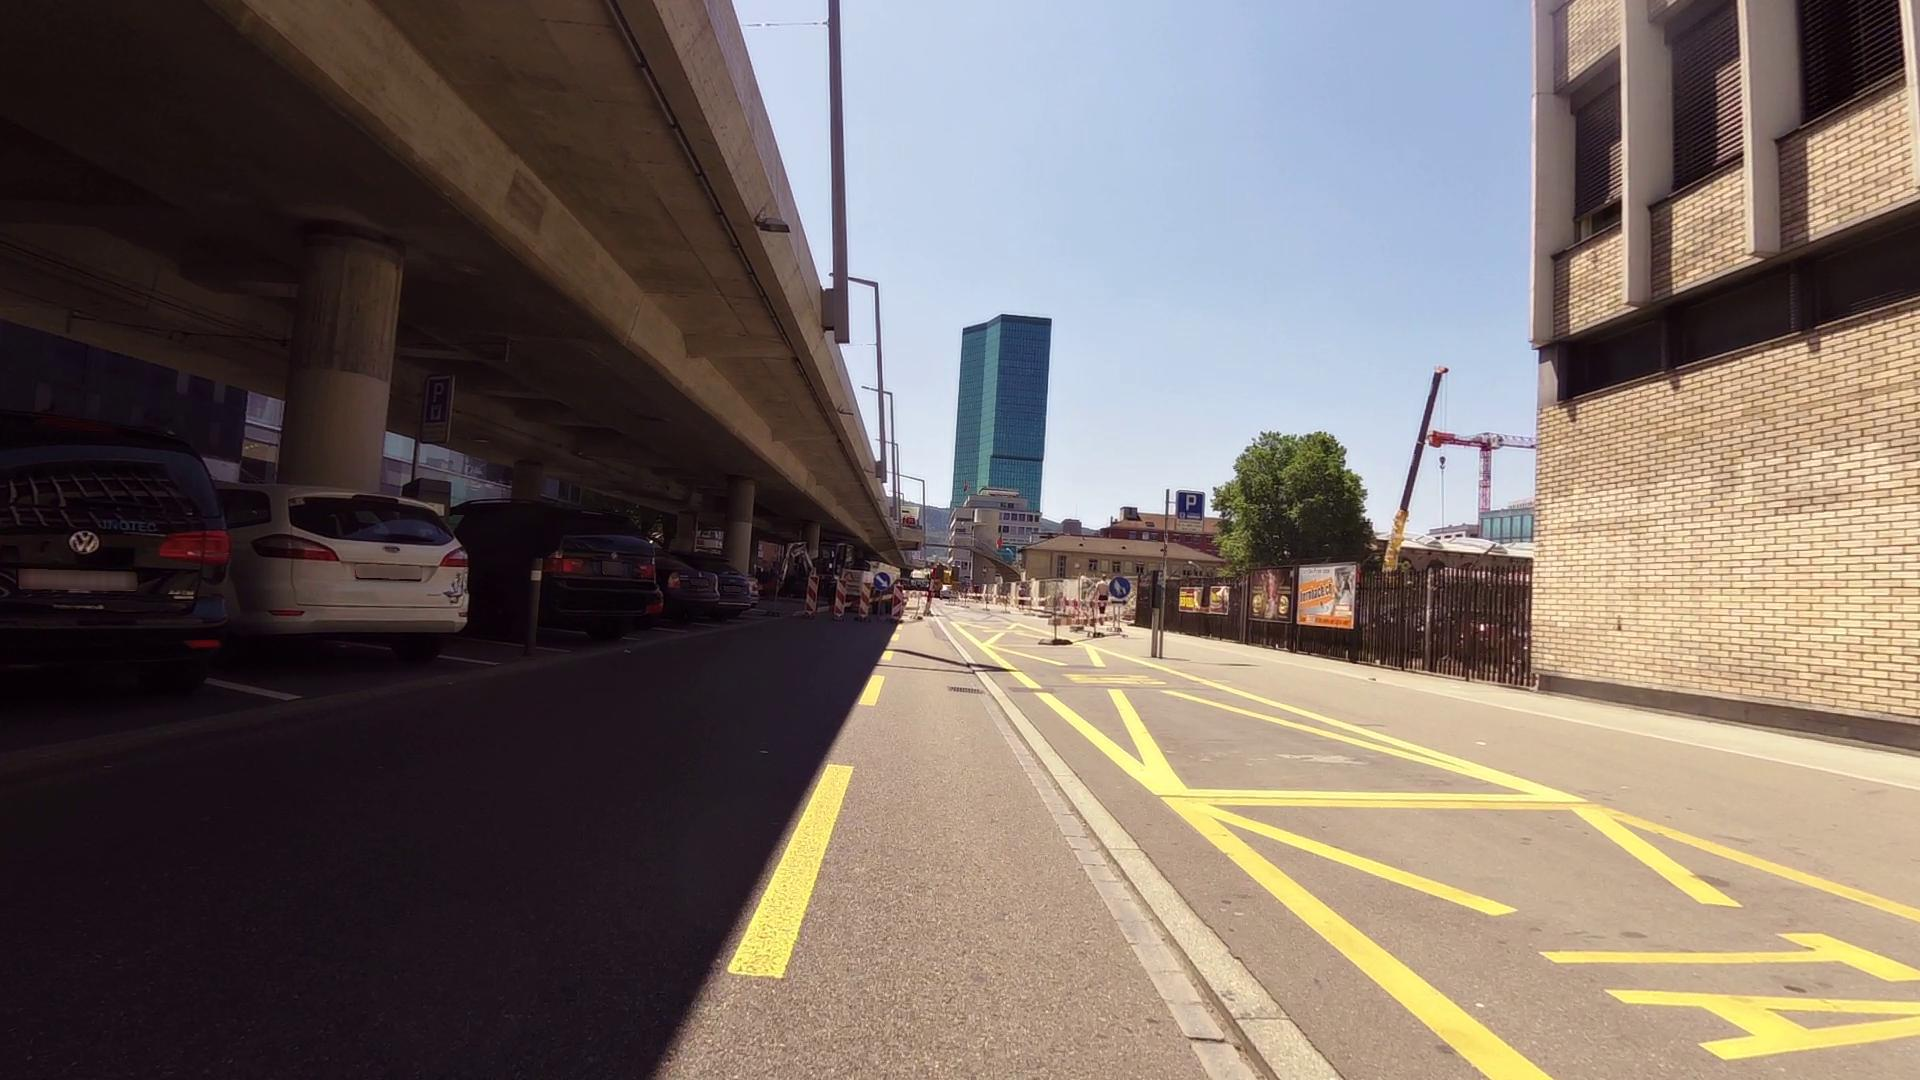vinyl banner: (1168, 575, 1238, 620)
